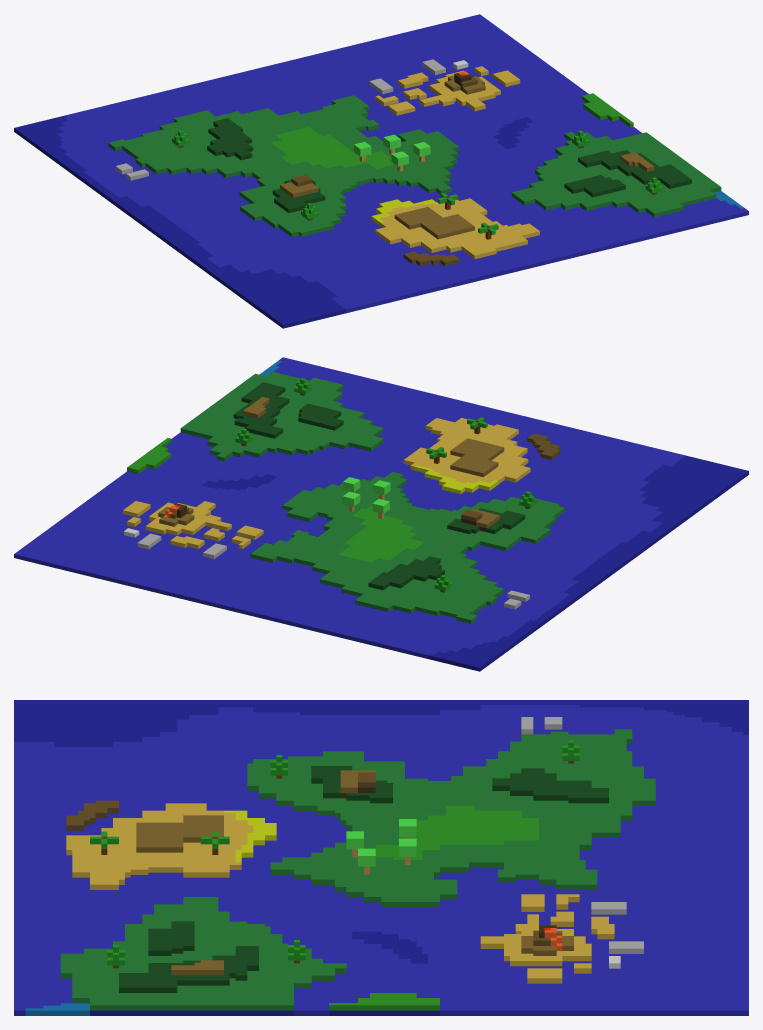
Rendered from LeftWorld.obj.
3 renders of one model, top to bottom at view 1: azimuth 30°, elevation 25°; view 2: azimuth 150°, elevation 25°; view 3: azimuth 270°, elevation 25°, orthographic. The views are drawn at different scales.
Size of the model in its own units: 126 by 6 by 126.
1 material, 1 textured.
